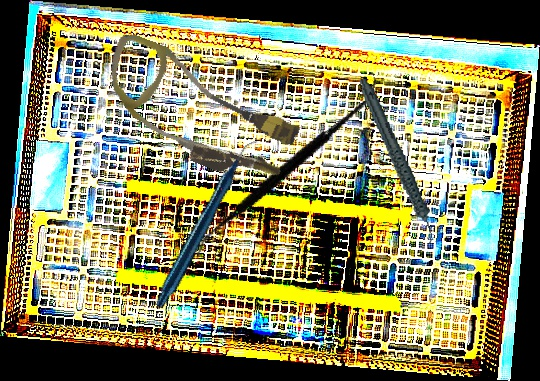Cannula: (87, 29, 310, 195)
Handpiece: (111, 139, 305, 310), (357, 71, 437, 252)
Spatula Surgical: (194, 43, 378, 290)
